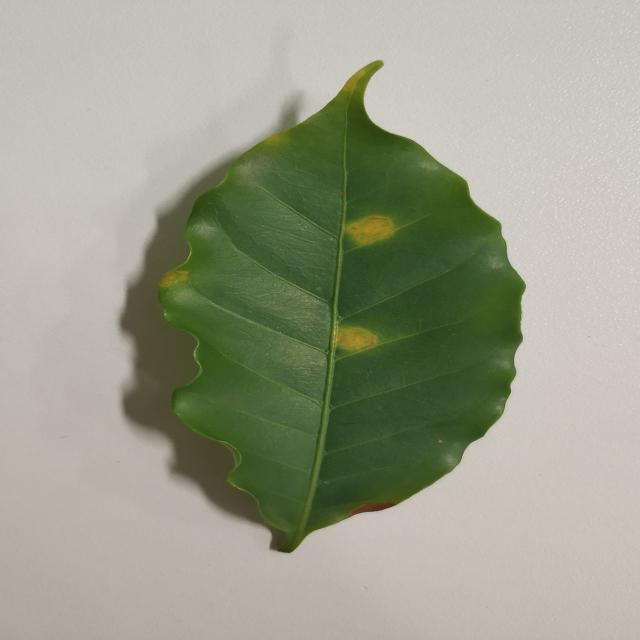Enfermedad-Roya: (154, 61, 527, 555)
